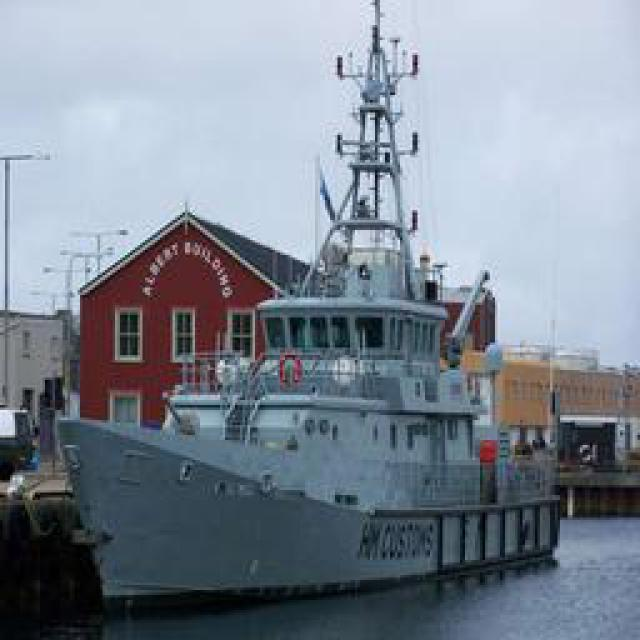Ship: (67, 1, 545, 621)
